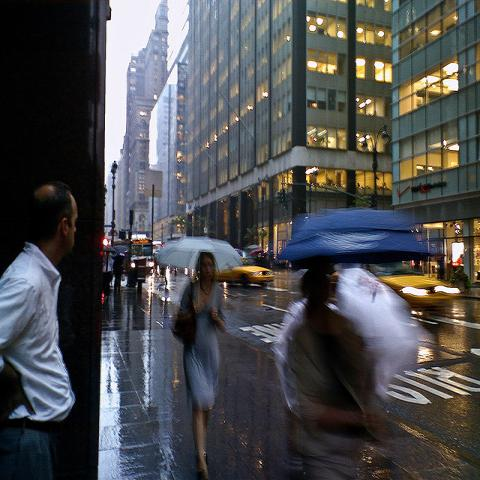bus: (131, 238, 154, 276)
car: (299, 262, 465, 312), (216, 255, 276, 288), (246, 244, 264, 256)
